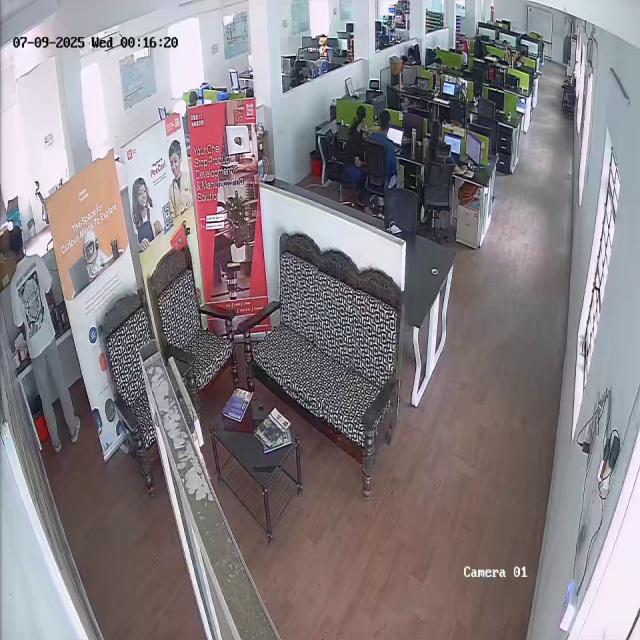person: (0, 225, 78, 451), (337, 106, 368, 200), (369, 110, 399, 179)
